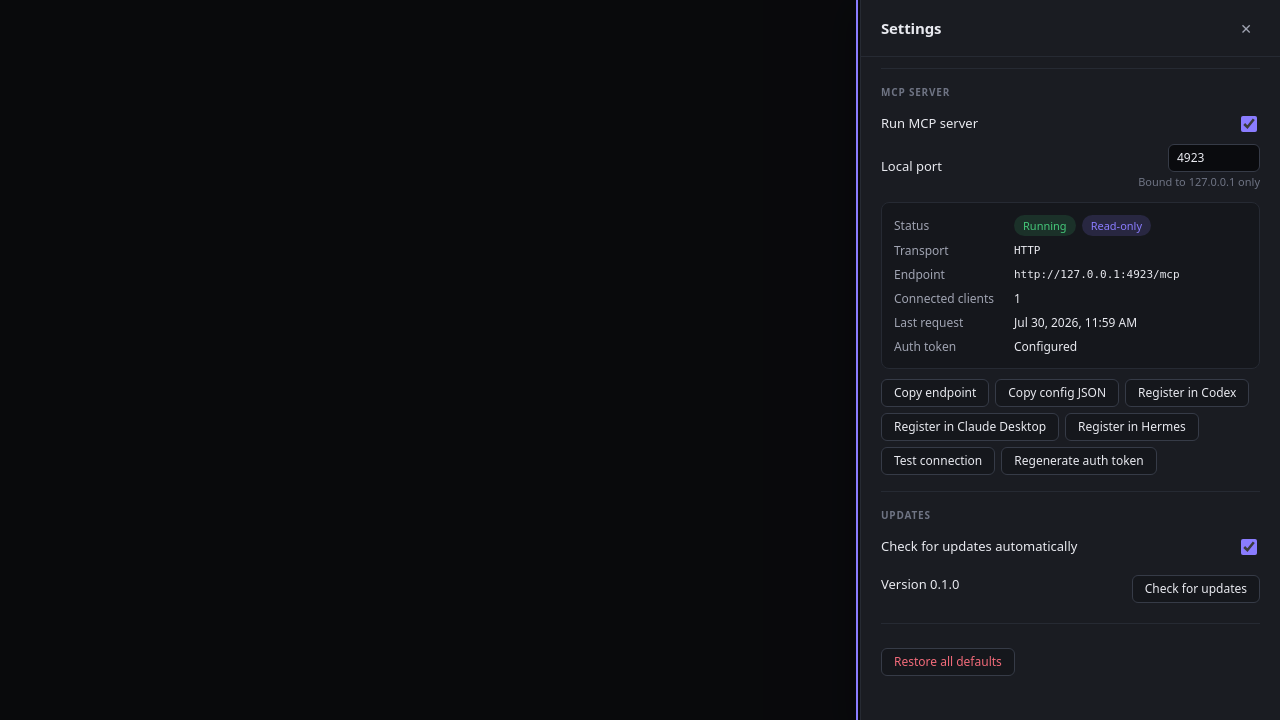
Test case: SettingsDrawer › cancelling the reset dialog does not reset
(page scrolled)
Expected: the dialog "Settings" is shown, [860,0,1279,719]
Click the button "Restore all defaults" at (948, 662), box [881,648,1015,676]
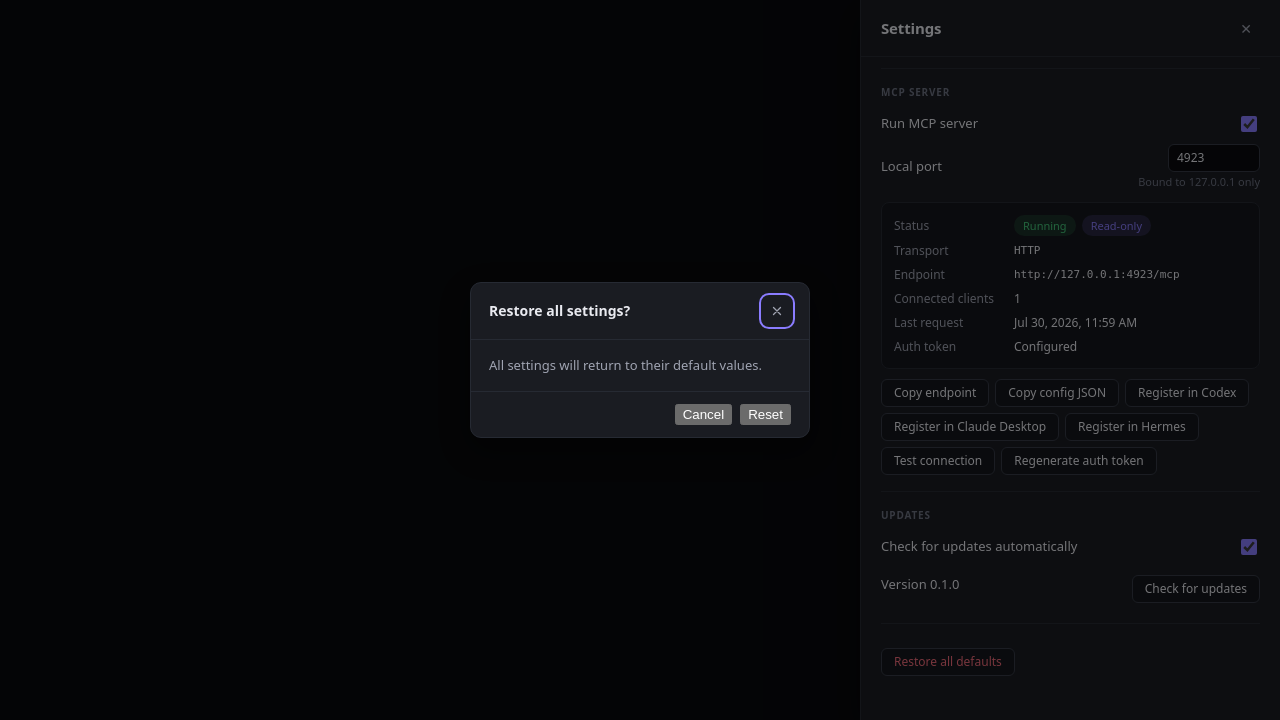
Result: the dialog "Restore all settings?" is shown at [470,282,810,438]
Click the button "Cancel" at (703, 415), box [675,404,732,425]
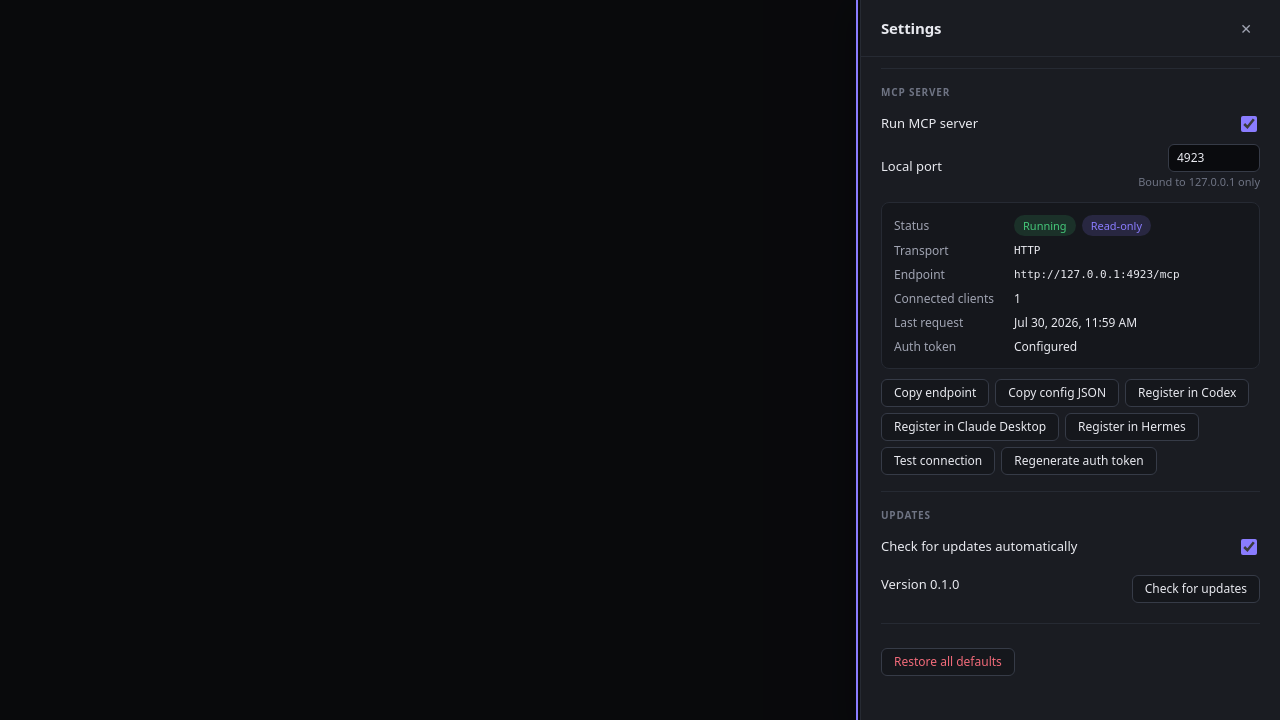
Result: the heading "Restore all settings?" is gone
